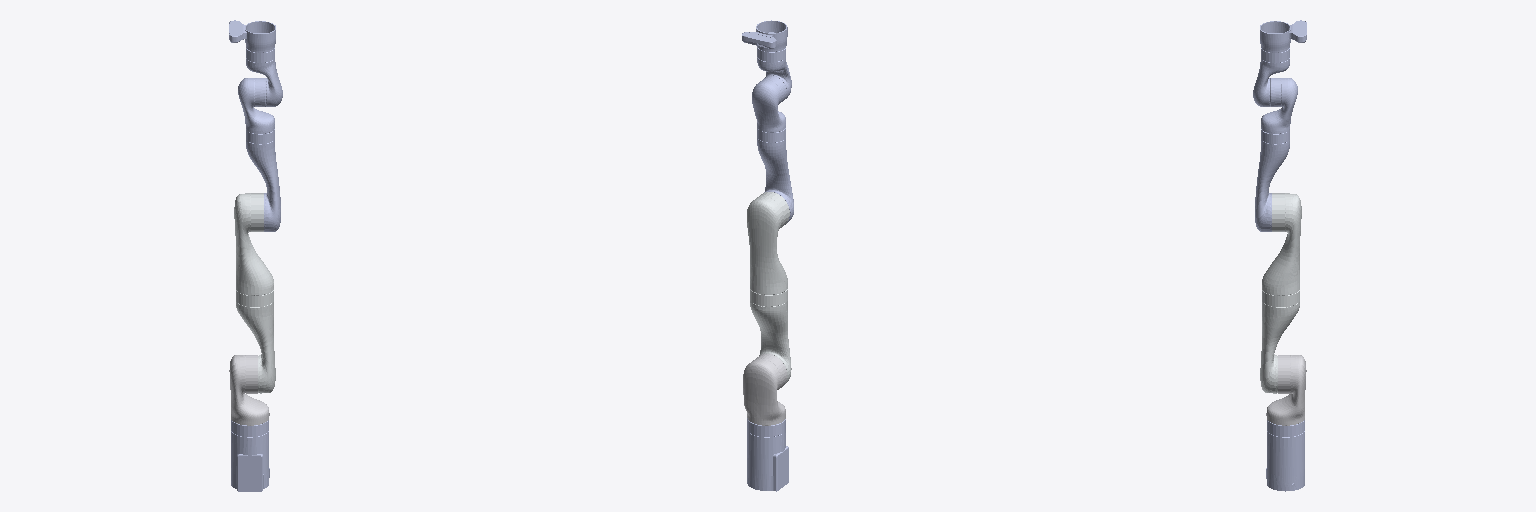
The robot description file, URDF, robot "JACO3_URDF_V10":
<robot
  name="JACO3_URDF_V10" version="1.0">
  <link
    name="base_link">
    <inertial>
      <origin
        xyz="-0.00077898 -4.2629E-05 0.077301"
        rpy="0 0 0" />
      <mass
        value="1.661" />
      <inertia
        ixx="0.0046774"
        ixy="-2.8192E-07"
        ixz="-4.8238E-05"
        iyy="0.0047194"
        iyz="-4.2299E-06"
        izz="0.0019958" />
    </inertial>
    <visual>
      <origin
        xyz="0 0 0"
        rpy="0 0 0" />
      <geometry>
        <mesh
          filename="package://kortex_description/meshes/base_link.STL" />
      </geometry>
      <material
        name="">
        <color
          rgba="0.79216 0.81961 0.93333 1" />
      </material>
    </visual>
    <collision>
      <origin
        xyz="0 0 0"
        rpy="0 0 0" />
      <geometry>
        <mesh
          filename="package://kortex_description/meshes/base_link.STL" />
      </geometry>
    </collision>
  </link>
  <link
    name="Shoulder_Link">
    <inertial>
      <origin
        xyz="-2.2888E-05 -0.010511 -0.075159"
        rpy="0 0 0" />
      <mass
        value="2.009" />
      <inertia
        ixx="0.0045081"
        ixy="-8.5826E-07"
        ixz="-1.8997E-06"
        iyy="0.0047695"
        iyz="-0.00045534"
        izz="0.0013903" />
    </inertial>
    <visual>
      <origin
        xyz="0 0 0"
        rpy="0 0 0" />
      <geometry>
        <mesh
          filename="package://kortex_description/meshes/Shoulder_Link.STL" />
      </geometry>
      <material
        name="">
        <color
          rgba="0.86667 0.86667 0.8902 1" />
      </material>
    </visual>
    <collision>
      <origin
        xyz="0 0 0"
        rpy="0 0 0" />
      <geometry>
        <mesh
          filename="package://kortex_description/meshes/Shoulder_Link.STL" />
      </geometry>
    </collision>
  </link>
  <joint
    name="Actuator1"
    type="continuous">
    <origin
      xyz="0 0 0.15643"
      rpy="3.1416 0 0" />
    <parent
      link="base_link" />
    <child
      link="Shoulder_Link" />
    <axis
      xyz="0 0 1" />
    <limit
      effort="39"
      velocity="0.8727" />
  </joint>
  <link
    name="HalfArm1_Link">
    <inertial>
      <origin
        xyz="-2.7821E-05 -0.097298 -0.012693"
        rpy="0 0 0" />
      <mass
        value="1.106" />
      <inertia
        ixx="0.0089168"
        ixy="-2.8995E-06"
        ixz="-1.6642E-07"
        iyy="0.00073106"
        iyz="0.00051768"
        izz="0.0090416" />
    </inertial>
    <visual>
      <origin
        xyz="0 0 0"
        rpy="0 0 0" />
      <geometry>
        <mesh
          filename="package://kortex_description/meshes/HalfArm1_Link.STL" />
      </geometry>
      <material
        name="">
        <color
          rgba="0.89804 0.91765 0.92941 1" />
      </material>
    </visual>
    <collision>
      <origin
        xyz="0 0 0"
        rpy="0 0 0" />
      <geometry>
        <mesh
          filename="package://kortex_description/meshes/HalfArm1_Link.STL" />
      </geometry>
    </collision>
  </link>
  <joint
    name="Actuator2"
    type="revolute">
    <origin
      xyz="0 0.005375 -0.12838"
      rpy="1.5708 0 0" />
    <parent
      link="Shoulder_Link" />
    <child
      link="HalfArm1_Link" />
    <axis
      xyz="0 0 1" />
    <limit
      lower="-2.2000"
      upper="2.2000"
      effort="39"
      velocity="0.8727" />
  </joint>
  <link
    name="HalfArm2_Link">
    <inertial>
      <origin
        xyz="2.9808E-05 -0.0062391 -0.11552"
        rpy="0 0 0" />
      <mass
        value="1.106" />
      <inertia
        ixx="0.0088707"
        ixy="2.3435E-07"
        ixz="-3.3202E-06"
        iyy="0.0090034"
        iyz="-0.00050415"
        izz="0.00071859" />
    </inertial>
    <visual>
      <origin
        xyz="0 0 0"
        rpy="0 0 0" />
      <geometry>
        <mesh
          filename="package://kortex_description/meshes/HalfArm2_Link.STL" />
      </geometry>
      <material
        name="">
        <color
          rgba="0.89804 0.91765 0.92941 1" />
      </material>
    </visual>
    <collision>
      <origin
        xyz="0 0 0"
        rpy="0 0 0" />
      <geometry>
        <mesh
          filename="package://kortex_description/meshes/HalfArm2_Link.STL" />
      </geometry>
    </collision>
  </link>
  <joint
    name="Actuator3"
    type="continuous">
    <origin
      xyz="0 -0.21038 -0.006375"
      rpy="-1.5708 0 0" />
    <parent
      link="HalfArm1_Link" />
    <child
      link="HalfArm2_Link" />
    <axis
      xyz="0 0 1" />
    <limit
      effort="39"
      velocity="0.8727" />
  </joint>
  <link
    name="ForeArm_Link">
    <inertial>
      <origin
        xyz="-1.1024E-05 -0.075357 -0.014085"
        rpy="0 0 0" />
      <mass
        value="0.895" />
      <inertia
        ixx="0.0067339"
        ixy="6.9646E-07"
        ixz="-2.2424E-08"
        iyy="0.00045088"
        iyz="0.00038999"
        izz="0.0068613" />
    </inertial>
    <visual>
      <origin
        xyz="0 0 0"
        rpy="0 0 0" />
      <geometry>
        <mesh
          filename="package://kortex_description/meshes/ForeArm_Link.STL" />
      </geometry>
      <material
        name="">
        <color
          rgba="0.79216 0.81961 0.93333 1" />
      </material>
    </visual>
    <collision>
      <origin
        xyz="0 0 0"
        rpy="0 0 0" />
      <geometry>
        <mesh
          filename="package://kortex_description/meshes/ForeArm_Link.STL" />
      </geometry>
    </collision>
  </link>
  <joint
    name="Actuator4"
    type="revolute">
    <origin
      xyz="0 0.006375 -0.21038"
      rpy="1.5708 0 0" />
    <parent
      link="HalfArm2_Link" />
    <child
      link="ForeArm_Link" />
    <axis
      xyz="0 0 1" />
    <limit
      lower="-2.5656"
      upper="2.5656"
      effort="39"
      velocity="0.8727" />
  </joint>
  <link
    name="Wrist1_Link">
    <inertial>
      <origin
        xyz="-3.2964E-07 -0.009617 -0.062968"
        rpy="0 0 0" />
      <mass
        value="0.654" />
      <inertia
        ixx="0.0013311"
        ixy="-4.5849E-10"
        ixz="-4.2678E-10"
        iyy="0.0013282"
        iyz="-0.00022936"
        izz="0.00030696" />
    </inertial>
    <visual>
      <origin
        xyz="0 0 0"
        rpy="0 0 0" />
      <geometry>
        <mesh
          filename="package://kortex_description/meshes/Wrist1_Link.STL" />
      </geometry>
      <material
        name="">
        <color
          rgba="0.79216 0.81961 0.93333 1" />
      </material>
    </visual>
    <collision>
      <origin
        xyz="0 0 0"
        rpy="0 0 0" />
      <geometry>
        <mesh
          filename="package://kortex_description/meshes/Wrist1_Link.STL" />
      </geometry>
    </collision>
  </link>
  <joint
    name="Actuator5"
    type="continuous">
    <origin
      xyz="0 -0.20843 -0.006375"
      rpy="-1.5708 0 0" />
    <parent
      link="ForeArm_Link" />
    <child
      link="Wrist1_Link" />
    <axis
      xyz="0 0 1" />
    <limit
      effort="9"
      velocity="0.8727" />
  </joint>
  <link
    name="Wrist2_Link">
    <inertial>
      <origin
        xyz="-3.4377E-07 -0.044043 -0.0097804"
        rpy="0 0 0" />
      <mass
        value="0.654" />
      <inertia
        ixx="0.0013422"
        ixy="4.9596E-10"
        ixz="-7.3382E-10"
        iyy="0.00031025"
        iyz="0.00023506"
        izz="0.001336" />
    </inertial>
    <visual>
      <origin
        xyz="0 0 0"
        rpy="0 0 0" />
      <geometry>
        <mesh
          filename="package://kortex_description/meshes/Wrist2_Link.STL" />
      </geometry>
      <material
        name="">
        <color
          rgba="0.79216 0.81961 0.93333 1" />
      </material>
    </visual>
    <collision>
      <origin
        xyz="0 0 0"
        rpy="0 0 0" />
      <geometry>
        <mesh
          filename="package://kortex_description/meshes/Wrist2_Link.STL" />
      </geometry>
    </collision>
  </link>
  <joint
    name="Actuator6"
    type="revolute">
    <origin
      xyz="0 0.00017505 -0.10593"
      rpy="1.5708 0 0" />
    <parent
      link="Wrist1_Link" />
    <child
      link="Wrist2_Link" />
    <axis
      xyz="0 0 1" />
    <limit
      lower="-2.0500"
      upper="2.0500"
      effort="9"
      velocity="0.8727" />
  </joint>
  <link
    name="Bracelet_Link">
    <inertial>
      <origin
        xyz="-2.788E-05 -0.0052162 -0.022692"
        rpy="0 0 0" />
      <mass
        value="0.31408" />
      <inertia
        ixx="0.0002264"
        ixy="-4.9091E-07"
        ixz="-2.6238E-07"
        iyy="0.00015697"
        iyz="-4.5614E-05"
        izz="0.00025981" />
    </inertial>
    <visual>
      <origin
        xyz="0 0 0"
        rpy="0 0 0" />
      <geometry>
        <mesh
          filename="package://kortex_description/meshes/Bracelet_Link.STL" />
      </geometry>
      <material
        name="">
        <color
          rgba="0.79216 0.81961 0.93333 1" />
      </material>
    </visual>
    <collision>
      <origin
        xyz="0 0 0"
        rpy="0 0 0" />
      <geometry>
        <mesh
          filename="package://kortex_description/meshes/Bracelet_Link.STL" />
      </geometry>
    </collision>
  </link>
  <joint
    name="Actuator7"
    type="continuous">
    <origin
      xyz="0 -0.10593 -0.00017505"
      rpy="-1.5708 0 0" />
    <parent
      link="Wrist2_Link" />
    <child
      link="Bracelet_Link" />
    <axis
      xyz="0 0 1" />
    <limit
      effort="9"
      velocity="0.8727" />
  </joint>
  <link
    name="EndEffector_Link">
    <inertial>
      <origin
        xyz="-0.00017492 0.014824 -0.62969"
        rpy="0 0 0" />
      <mass
        value="0" />
      <inertia
        ixx="0"
        ixy="0"
        ixz="0"
        iyy="0"
        iyz="0"
        izz="0" />
    </inertial>
    <visual>
      <origin
        xyz="0 0 0"
        rpy="0 0 0" />
      <geometry>
        <mesh
          filename="package://kortex_description/meshes/EndEffector_Link.STL" />
      </geometry>
      <material
        name="">
        <color
          rgba="0.79216 0.81961 0.93333 1" />
      </material>
    </visual>
    <collision>
      <origin
        xyz="0 0 0"
        rpy="0 0 0" />
      <geometry>
        <mesh
          filename="package://kortex_description/meshes/EndEffector_Link.STL" />
      </geometry>
    </collision>
  </link>
  <joint
    name="Endeffector"
    type="fixed">
    <origin
      xyz="0 0 -0.059525"
      rpy="3.1416 0 0" />
    <parent
      link="Bracelet_Link" />
    <child
      link="EndEffector_Link" />
    <axis
      xyz="0 0 0" />
  </joint>
</robot>

--- Render facts (derived) ---
3 views of the same robot in one strip: view 1: azimuth 90°, elevation 25°; view 2: azimuth 150°, elevation 25°; view 3: azimuth 270°, elevation 25° (orthographic).
Robot: JACO3_URDF_V10 — 9 links, 8 joints (3 revolute, 4 continuous, 1 fixed); root link base_link; default pose: all joints at 0.
Links seen in each view (by area): view 1: HalfArm2_Link, base_link, HalfArm1_Link, Shoulder_Link, ForeArm_Link, Wrist1_Link, Bracelet_Link, Wrist2_Link; view 2: HalfArm2_Link, base_link, Shoulder_Link, HalfArm1_Link, ForeArm_Link, Wrist1_Link, Bracelet_Link, Wrist2_Link; view 3: HalfArm2_Link, base_link, HalfArm1_Link, Shoulder_Link, ForeArm_Link, Wrist1_Link, Bracelet_Link, Wrist2_Link.
Boxes of the visible links, left/top/right/bottom form: HalfArm2_Link: left=234, top=193, right=273, bottom=295; base_link: left=231, top=420, right=269, bottom=491; HalfArm1_Link: left=236, top=290, right=275, bottom=393; Shoulder_Link: left=229, top=355, right=269, bottom=425; ForeArm_Link: left=246, top=129, right=280, bottom=231; Wrist1_Link: left=238, top=78, right=274, bottom=133; Bracelet_Link: left=229, top=20, right=275, bottom=52; Wrist2_Link: left=246, top=48, right=282, bottom=106; HalfArm2_Link: left=747, top=192, right=789, bottom=294; base_link: left=747, top=418, right=788, bottom=491; Shoulder_Link: left=743, top=354, right=786, bottom=425; HalfArm1_Link: left=750, top=289, right=791, bottom=383; ForeArm_Link: left=757, top=128, right=793, bottom=224; Wrist1_Link: left=752, top=76, right=786, bottom=132; Bracelet_Link: left=742, top=20, right=787, bottom=51; Wrist2_Link: left=757, top=47, right=791, bottom=98; HalfArm2_Link: left=1262, top=193, right=1301, bottom=295; base_link: left=1266, top=420, right=1304, bottom=491; HalfArm1_Link: left=1260, top=290, right=1299, bottom=393; Shoulder_Link: left=1266, top=355, right=1306, bottom=425; ForeArm_Link: left=1255, top=129, right=1289, bottom=231; Wrist1_Link: left=1261, top=78, right=1297, bottom=133; Bracelet_Link: left=1260, top=20, right=1306, bottom=52; Wrist2_Link: left=1253, top=48, right=1289, bottom=106.
Bounding box of the posed robot: 0.0927 × 0.1278 × 1.19 m (x, y, z).
Meshes: 9 distinct files referenced, 8 mesh visuals loaded (8 binary STL); not drawn: 1 (reference not matched to a file when rendering).